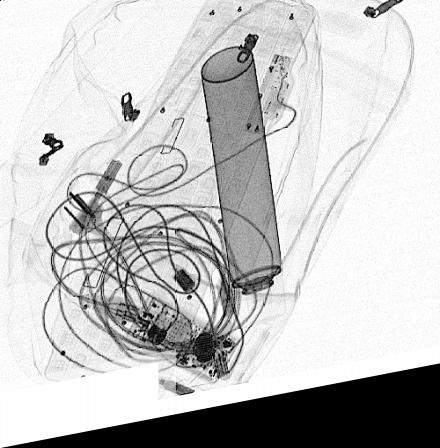Sprayer: (200, 53, 289, 340)
